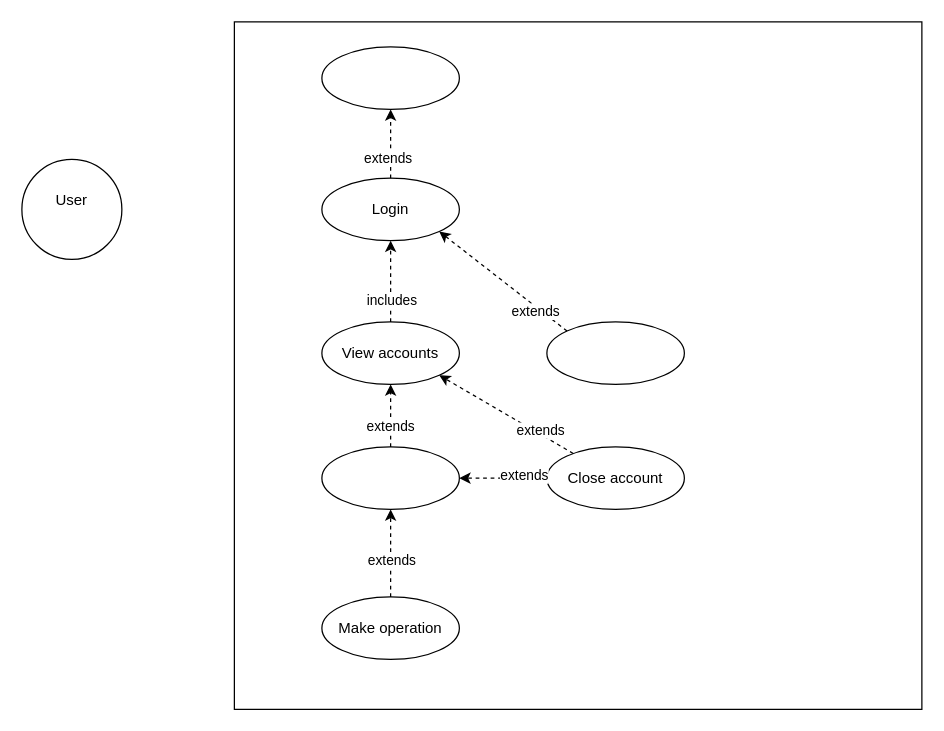
This 944x731 diagram has some shape labels left out. Each missing label, with the centre of its shape:
Make transfer: (615,352)
Register: (390,77)
View account: (390,477)
